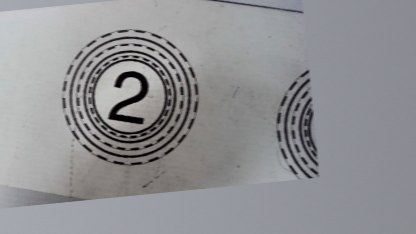2r: (50, 23, 206, 173)
